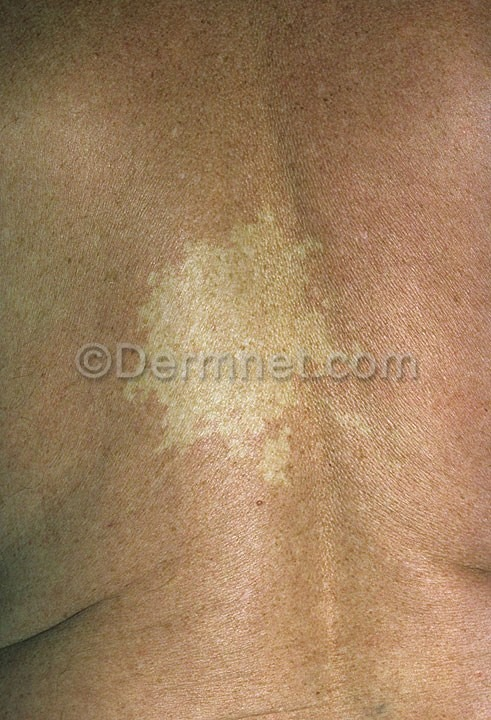Melasma: (135, 6, 422, 339), (136, 384, 345, 596)
